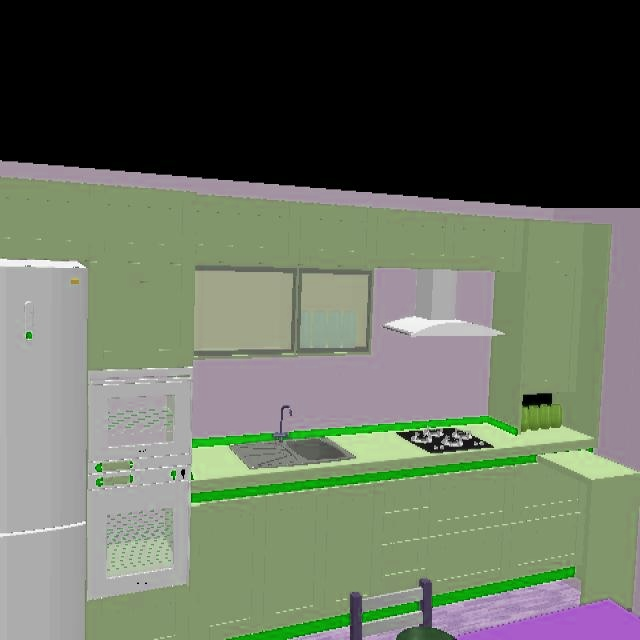countertop: (191, 416, 593, 491), (541, 449, 634, 589)
fridge: (0, 259, 89, 640)
microwave: (88, 368, 193, 485)
oven: (89, 483, 191, 595)
sink: (229, 437, 348, 473)
stove: (395, 428, 493, 453)
